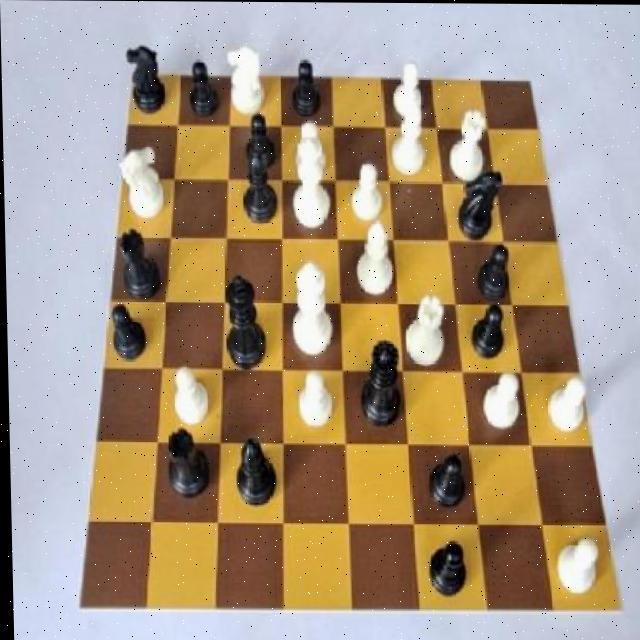bishop: (224, 432, 281, 515), (234, 141, 279, 231)
black-bishop: (217, 266, 268, 372)
black-king: (448, 161, 506, 242), (121, 36, 170, 119)
black-knight: (420, 533, 478, 607), (461, 290, 516, 361), (464, 238, 519, 306), (420, 448, 468, 522), (180, 49, 224, 129), (104, 299, 153, 368), (283, 51, 330, 121), (234, 112, 278, 173)
black-pawn: (350, 330, 403, 441)
black-queen: (154, 418, 212, 510), (109, 222, 162, 300)
black-rook: (383, 101, 434, 180), (351, 213, 396, 297)
white-bishop: (282, 260, 339, 363)
white-king: (113, 138, 170, 226), (221, 37, 273, 121)
white-knight: (550, 526, 600, 605), (477, 361, 525, 441), (540, 371, 592, 437), (167, 359, 212, 431), (289, 365, 337, 431), (343, 154, 388, 223), (386, 56, 427, 121), (289, 112, 329, 176)
white-pawn: (284, 132, 337, 239)
white-queen: (397, 289, 449, 370), (446, 104, 491, 183)
